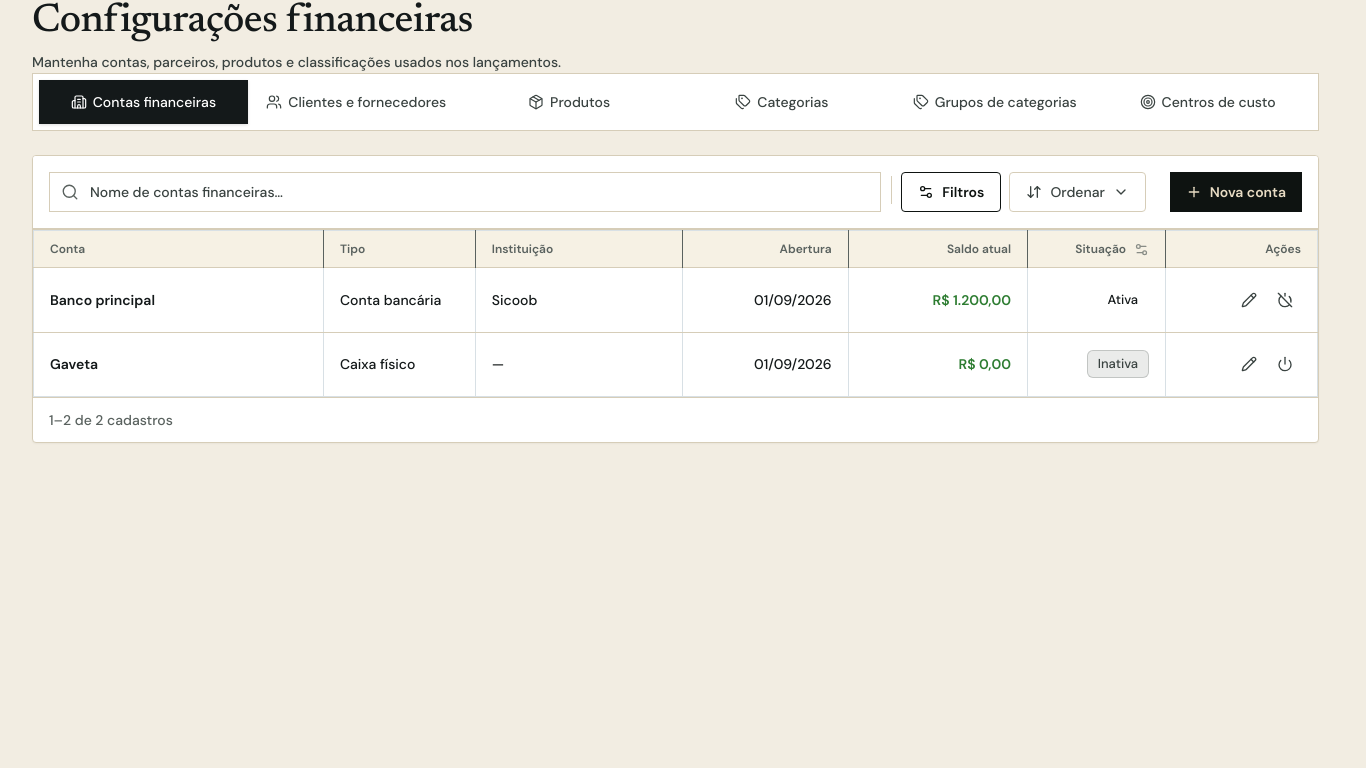
Test: ConfiguracoesFinanceiras — contas › editar carrega os valores atuais, trava abertura com movimentos e envia só o que mudou
Click the button named "Editar Banco principal" at (1249, 300), box [1233,282,1265,318]
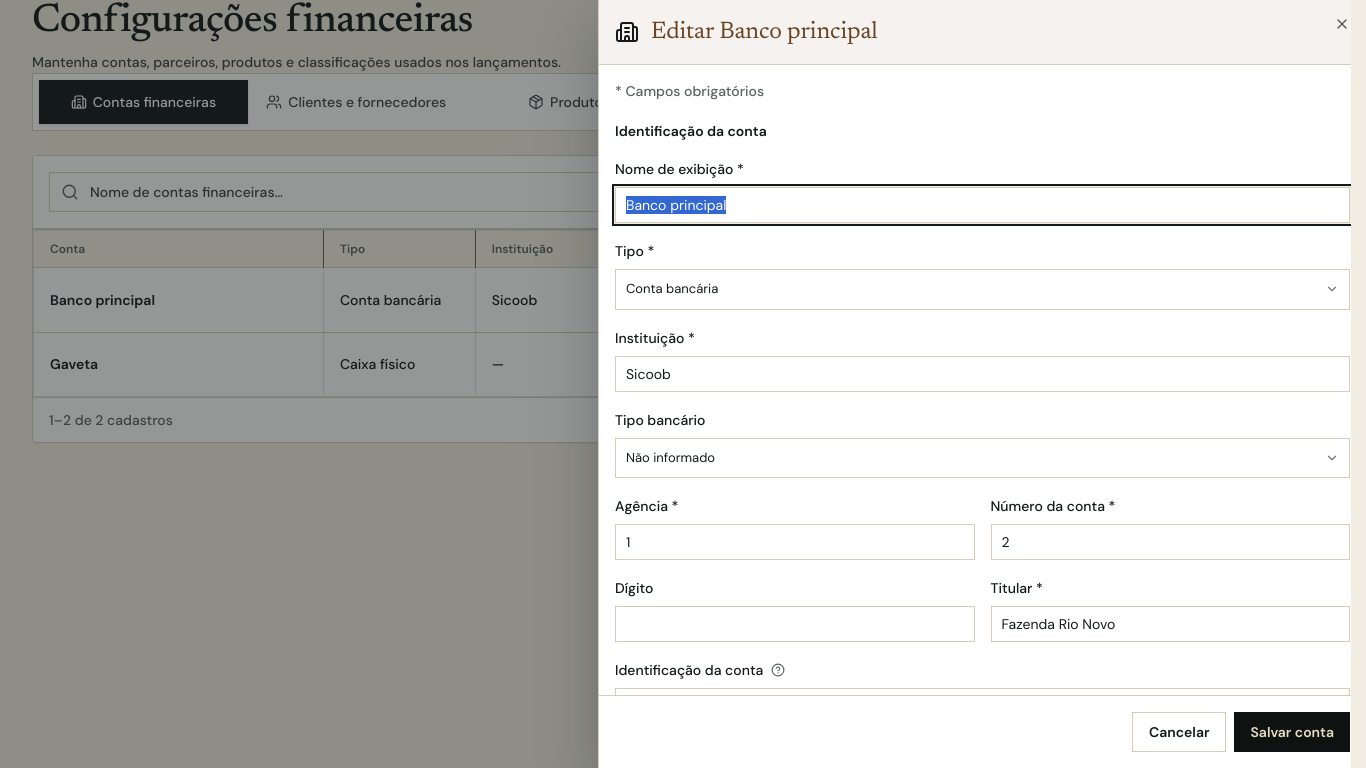
Expected: the field labelled "Nome de exibição" holds "Banco principal"
Expected: the field labelled "Instituição" holds "Sicoob", [615,356,1350,392]
Replace the text in the field labelled "Nome de exibição" with "Banco BB" at (982, 205), box [615,187,1350,223]
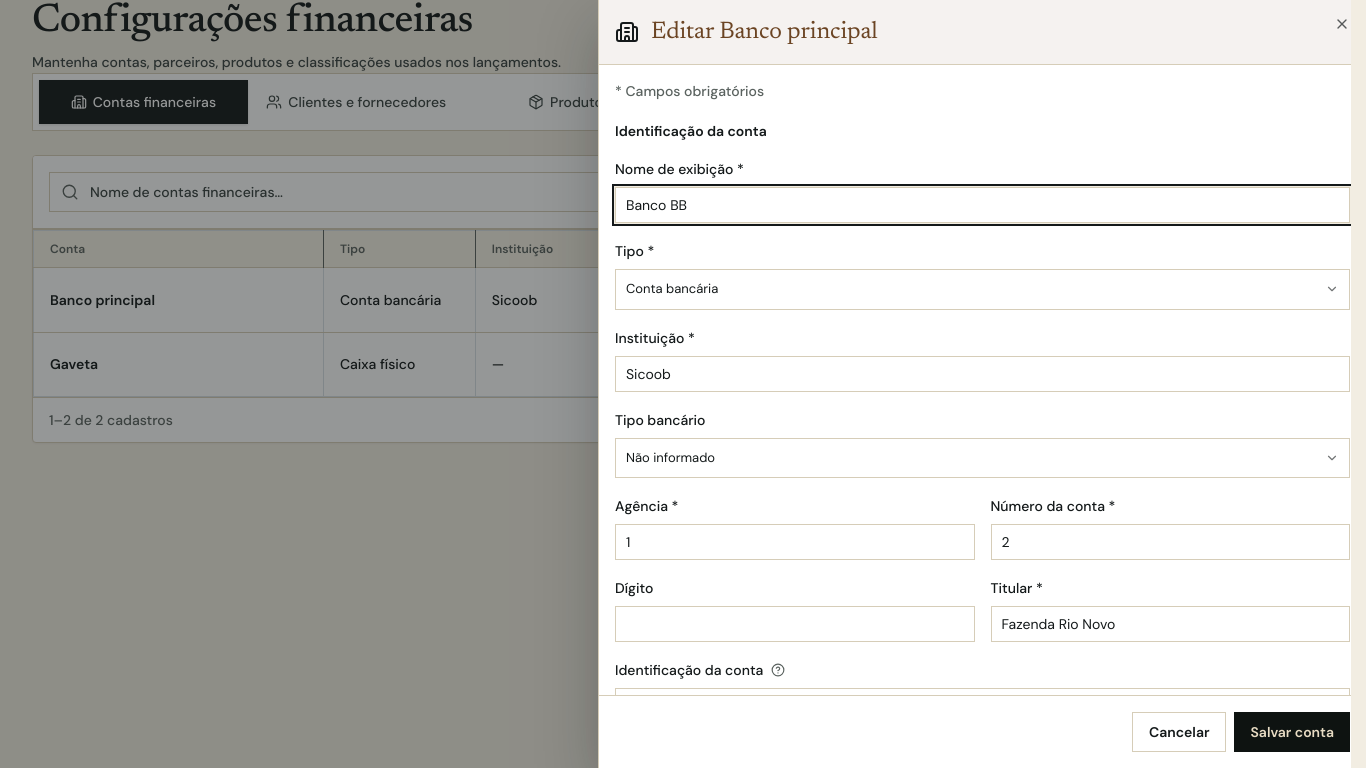
Click the button "Salvar conta" at (1292, 732), box [1234,712,1350,752]
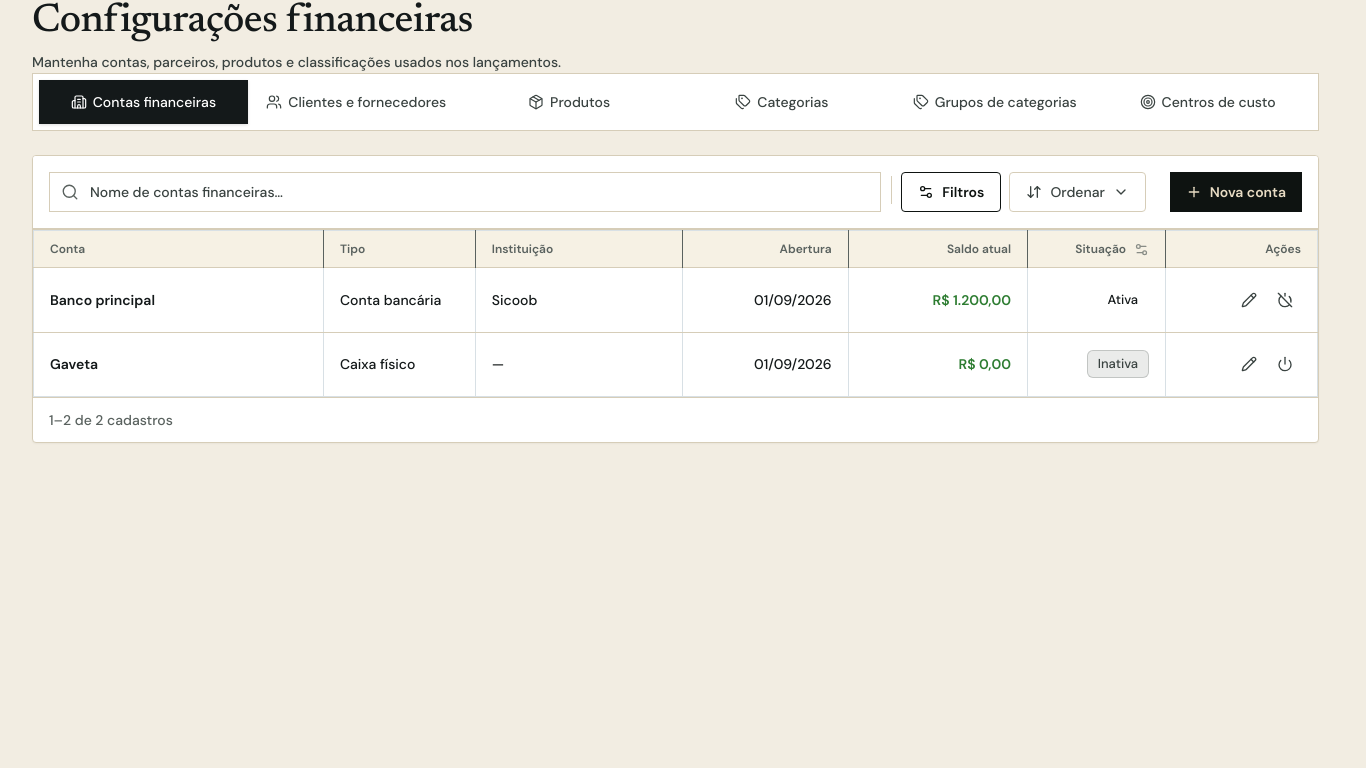
Expected: the dialog is gone
